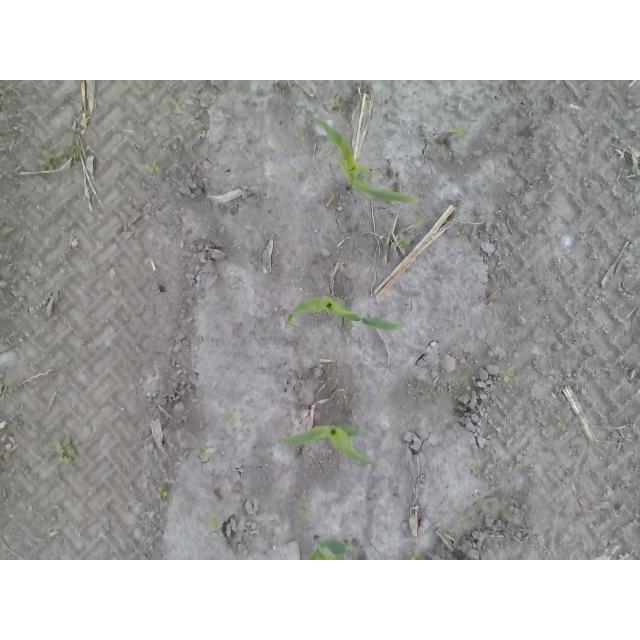Maize: (299, 113, 420, 206), (275, 424, 381, 468), (283, 294, 405, 332), (307, 534, 348, 560)
Weeds: (54, 437, 80, 464), (37, 149, 68, 171), (223, 407, 250, 428), (391, 232, 410, 256), (66, 140, 83, 165), (501, 365, 523, 383), (408, 213, 428, 229), (205, 513, 222, 531), (449, 125, 468, 140), (144, 159, 161, 173), (297, 500, 311, 517), (556, 415, 569, 432), (156, 484, 169, 500), (327, 94, 341, 107), (172, 99, 188, 110), (194, 449, 211, 459), (455, 229, 467, 242), (408, 549, 421, 560), (290, 163, 303, 173), (7, 139, 17, 152), (278, 141, 290, 151), (458, 264, 472, 272), (376, 379, 386, 390), (295, 131, 305, 142), (300, 264, 309, 276), (516, 460, 529, 468), (471, 463, 481, 473), (363, 511, 373, 520), (194, 122, 204, 130), (343, 387, 350, 398)
